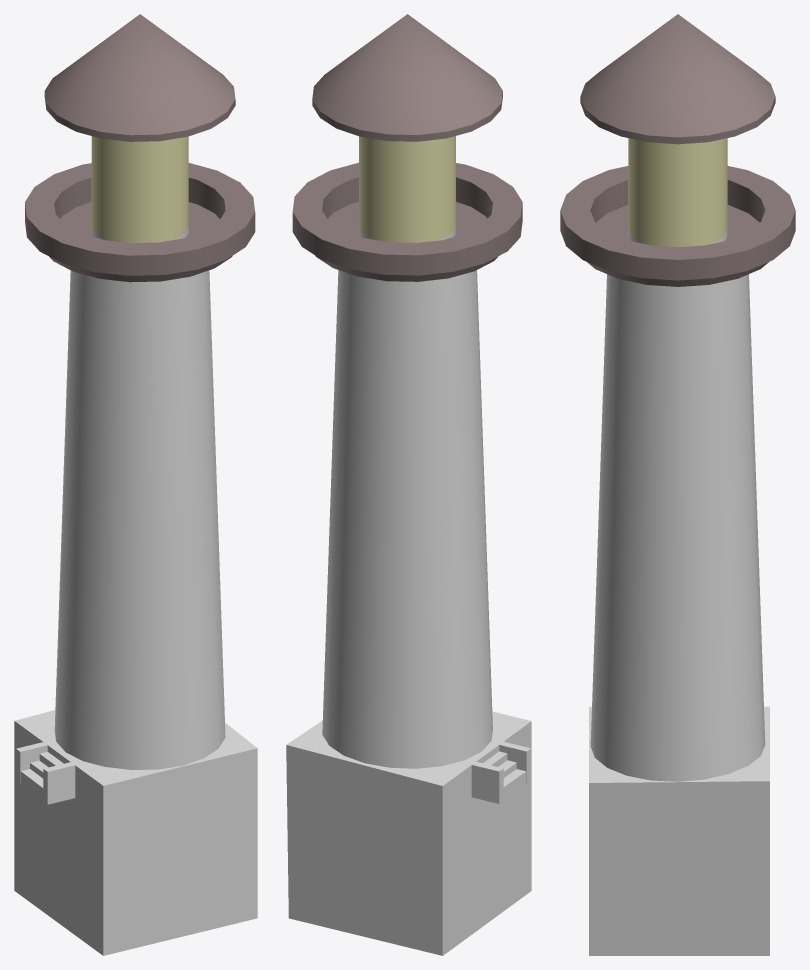
The model's file is M_WatchTower.fbx.
3 renders of one model, left to right at view 1: azimuth 30°, elevation 25°; view 2: azimuth 150°, elevation 25°; view 3: azimuth 270°, elevation 25°, orthographic.
Visible parts, largest first — view 1: M_WatchTower; view 2: M_WatchTower; view 3: M_WatchTower.
Boxes of the visible parts, x1,y1,x2,y2 form: M_WatchTower: [14, 14, 257, 955]; M_WatchTower: [286, 14, 531, 955]; M_WatchTower: [560, 14, 795, 955].
Bounding box in the file's own units: 356 × 1453 × 342.
